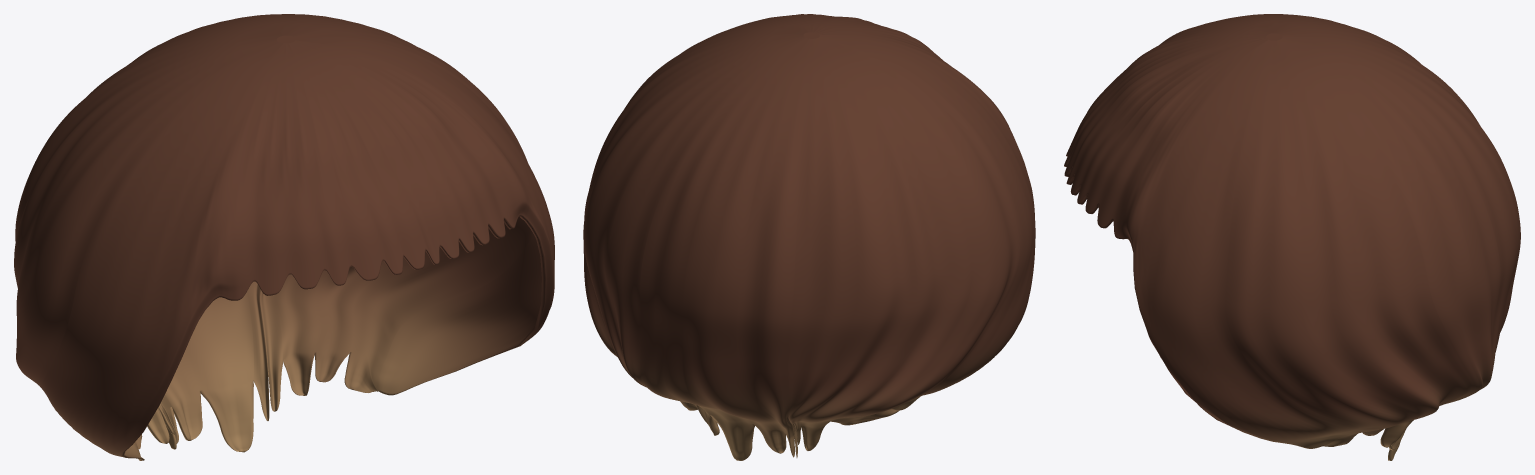
Rendered from long-pashmina-ombre.glb.
3 renders of one model, left to right at view 1: azimuth 30°, elevation 25°; view 2: azimuth 150°, elevation 25°; view 3: azimuth 270°, elevation 25°, orthographic. The views are drawn at different scales.
Visible parts, largest first — view 1: Hair / rounded long fringe; view 2: Hair / rounded long fringe; view 3: Hair / rounded long fringe.
Part boxes in pixels (<box>): Hair / rounded long fringe: <box>14,14,554,460</box>; Hair / rounded long fringe: <box>583,14,1035,460</box>; Hair / rounded long fringe: <box>1064,14,1520,460</box>.
Bounding box in the file's own units: 0.8406 × 0.778 × 0.7781.
